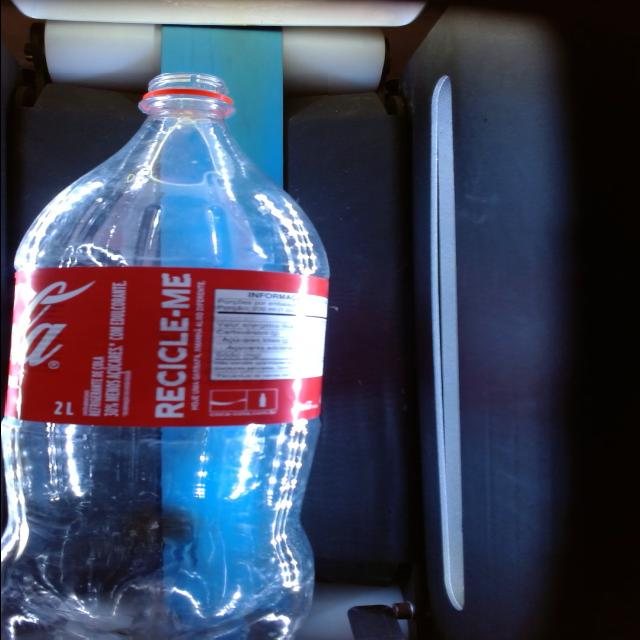bottom: (2, 419, 318, 639)
label: (5, 267, 327, 427)
neck: (13, 74, 327, 278)
